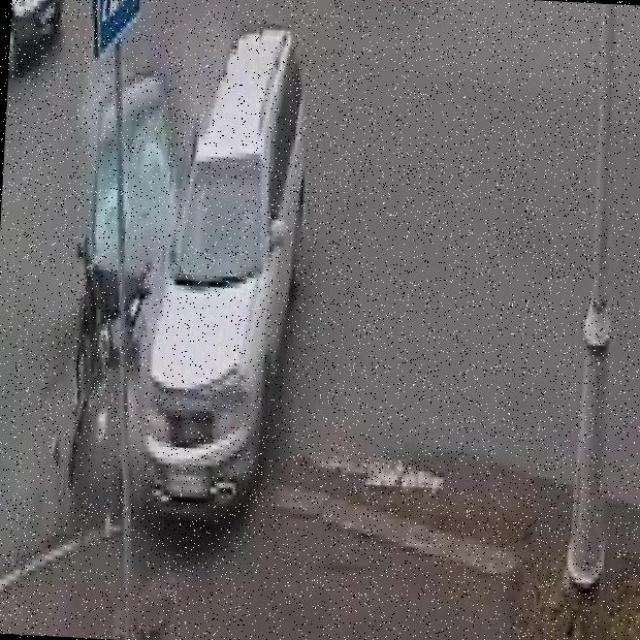accident: (64, 7, 325, 557)
